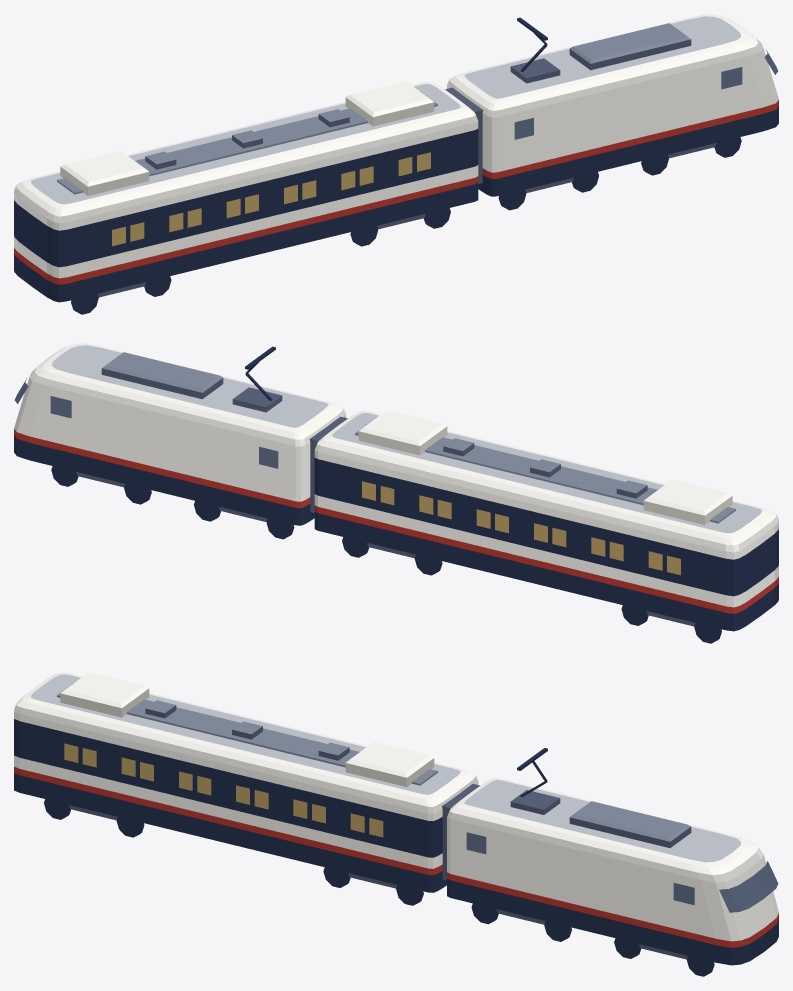
File: train-night.glb
The picture shows the model from 3 angles, top to bottom: view 1: azimuth 30°, elevation 25°; view 2: azimuth 150°, elevation 25°; view 3: azimuth 330°, elevation 25°; orthographic projection.
Parts seen in each view (by area): view 1: model; view 2: model; view 3: model.
Part boxes in pixels (x1,y1,x2,y2): model: (14,14,778,314); model: (14,343,778,643); model: (14,672,778,976).
Size of the model in its own units: 26.2 by 5.56 by 2.96.
